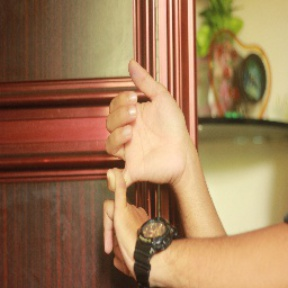S: (93, 57, 188, 284)
